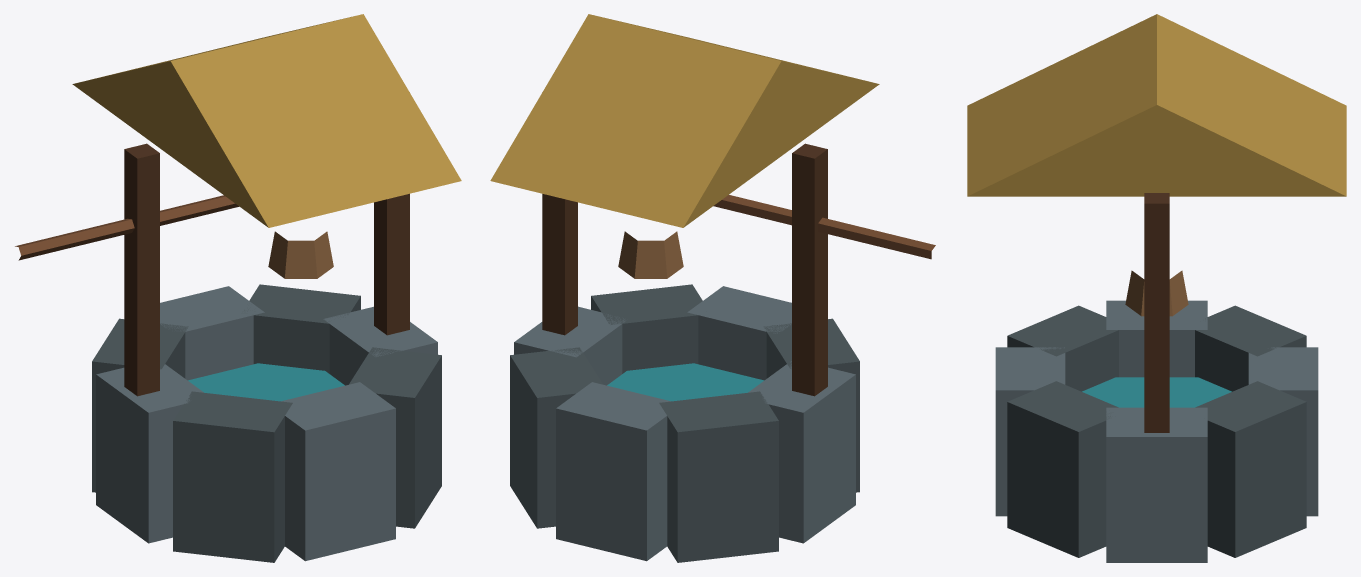
Rendered from prop_well.glb.
The picture shows the model from 3 angles, left to right: view 1: azimuth 30°, elevation 25°; view 2: azimuth 150°, elevation 25°; view 3: azimuth 270°, elevation 25°; orthographic projection. The views are drawn at different scales.
Parts seen in each view (by area): view 1: prop_well; view 2: prop_well; view 3: prop_well.
Boxes of the visible parts, left/top/right/bottom form: prop_well: left=15, top=14, right=461, bottom=562; prop_well: left=490, top=14, right=935, bottom=562; prop_well: left=967, top=14, right=1346, bottom=562.
Bounding box in the file's own units: 0.695 × 0.76 × 0.6.
